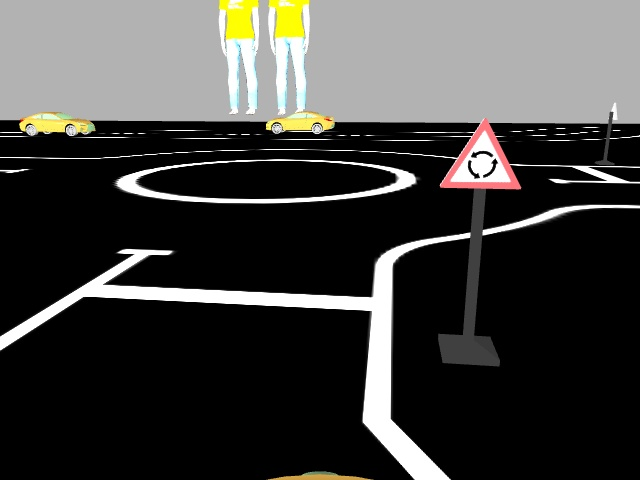Roundabout: (439, 118, 521, 191)
